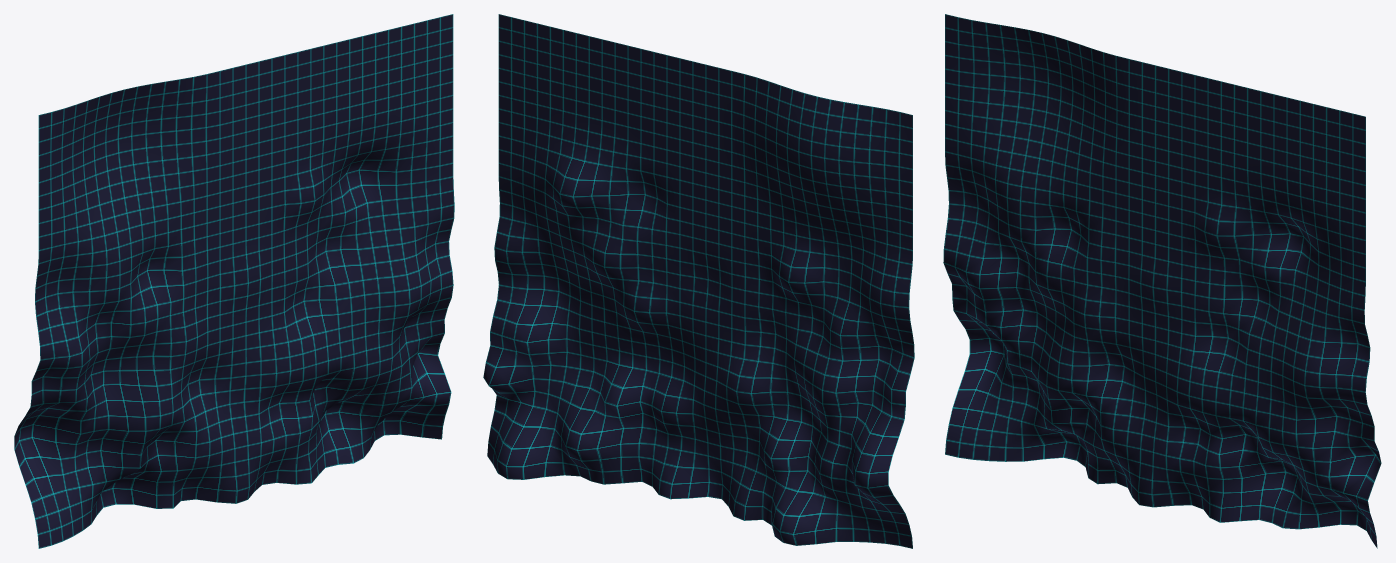
Rendered from mountain_0403.fbx.
3 views of the same model, side by side, from view 1: azimuth 30°, elevation 25°; view 2: azimuth 150°, elevation 25°; view 3: azimuth 330°, elevation 25° (orthographic).
Visible parts, largest first — view 1: pPlane1; view 2: pPlane1; view 3: pPlane1.
Boxes of the visible parts, <box> form: pPlane1: <box>14,14,454,548</box>; pPlane1: <box>483,14,914,548</box>; pPlane1: <box>943,14,1381,548</box>.
Size of the model in its own units: 16 by 16 by 2.75.
Materials: 1 (1 with a texture image).
